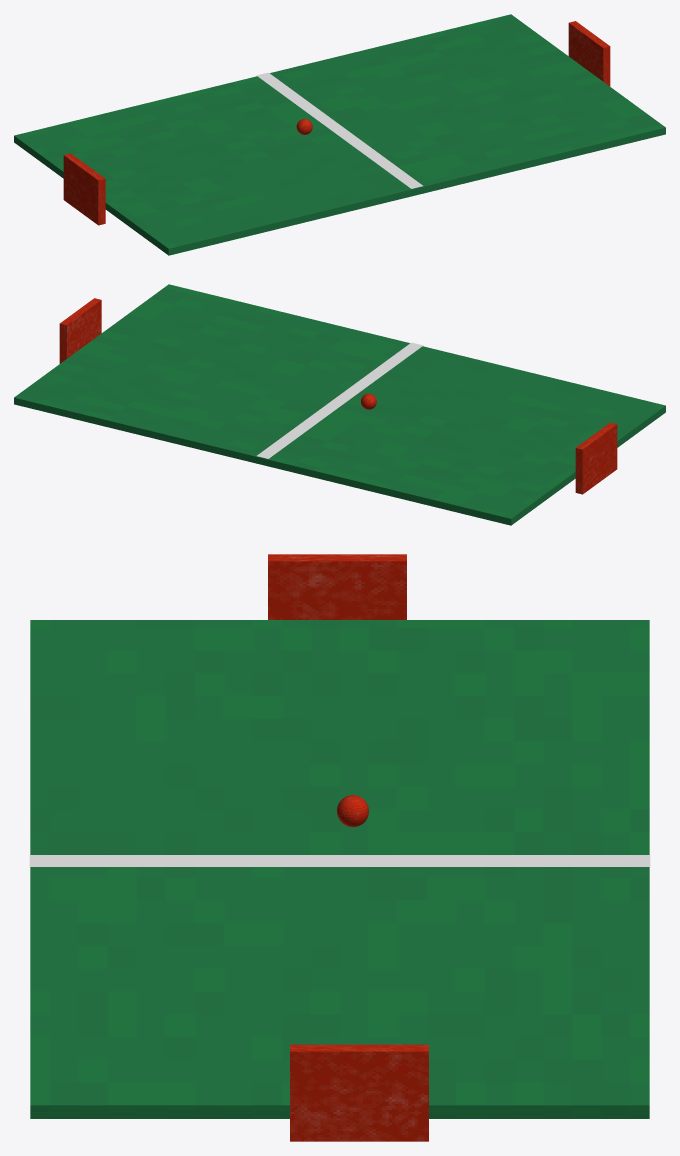
3 views of the same model, one above another, from view 1: azimuth 30°, elevation 25°; view 2: azimuth 150°, elevation 25°; view 3: azimuth 270°, elevation 25° (orthographic). The views are drawn at different scales.
Visible parts, largest first — view 1: Table, Opponent, Halfway_line, Our_Player; view 2: Table, Opponent, Halfway_line, Our_Player; view 3: Table, Our_Player, Opponent, Halfway_line.
Boxes of the visible parts, <box> form: Table: <box>14,14,665,255</box>; Opponent: <box>63,153,105,225</box>; Halfway_line: <box>256,72,422,188</box>; Our_Player: <box>568,21,610,86</box>; Table: <box>14,284,665,525</box>; Opponent: <box>575,422,617,494</box>; Halfway_line: <box>257,342,423,458</box>; Our_Player: <box>59,298,101,363</box>; Table: <box>30,620,649,1118</box>; Our_Player: <box>290,1044,428,1141</box>; Opponent: <box>268,554,406,619</box>; Halfway_line: <box>29,855,650,866</box>.
Size of the model in its own units: 7.72 by 0.6958 by 4.01.
Materials: 3 (3 with a texture image).
